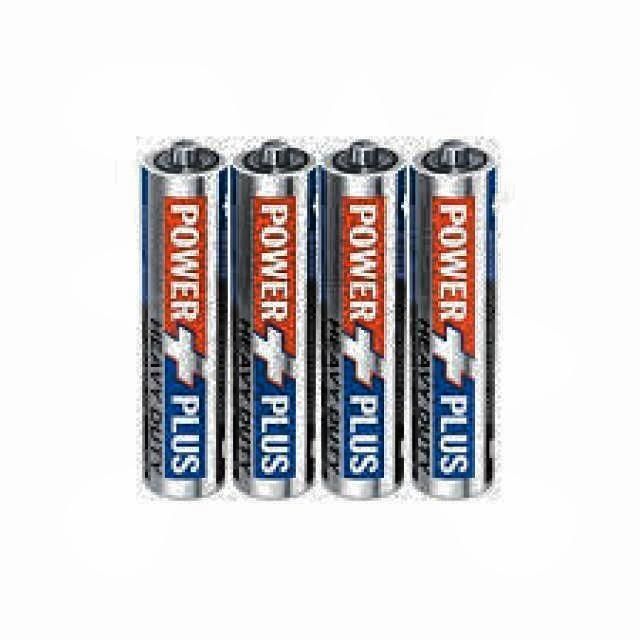battery: (231, 139, 319, 499), (140, 139, 228, 498), (409, 146, 497, 500)
